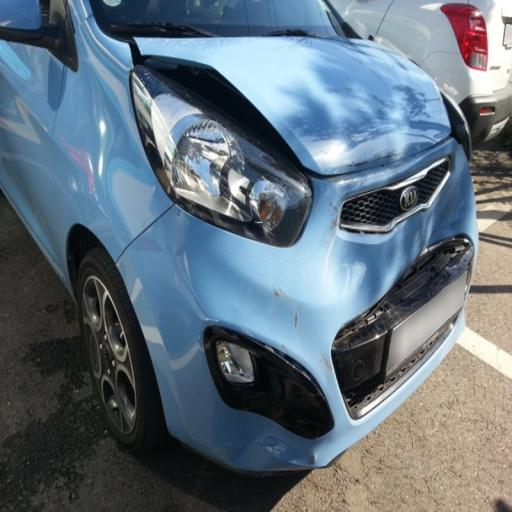dent: (182, 26, 449, 197)
scratch: (251, 270, 326, 372)
